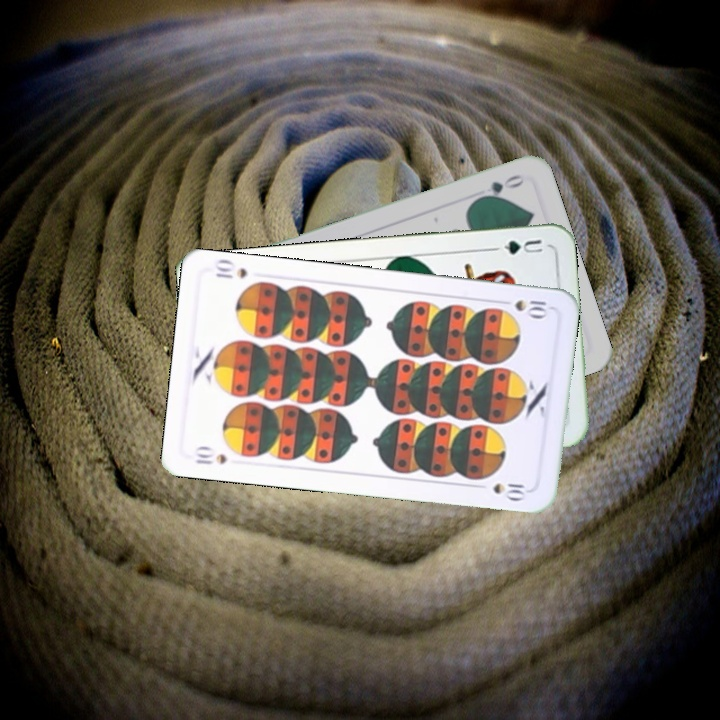GO: (472, 170, 527, 203)
GU: (500, 235, 545, 258)
S10: (511, 296, 550, 320), (191, 443, 230, 467)
